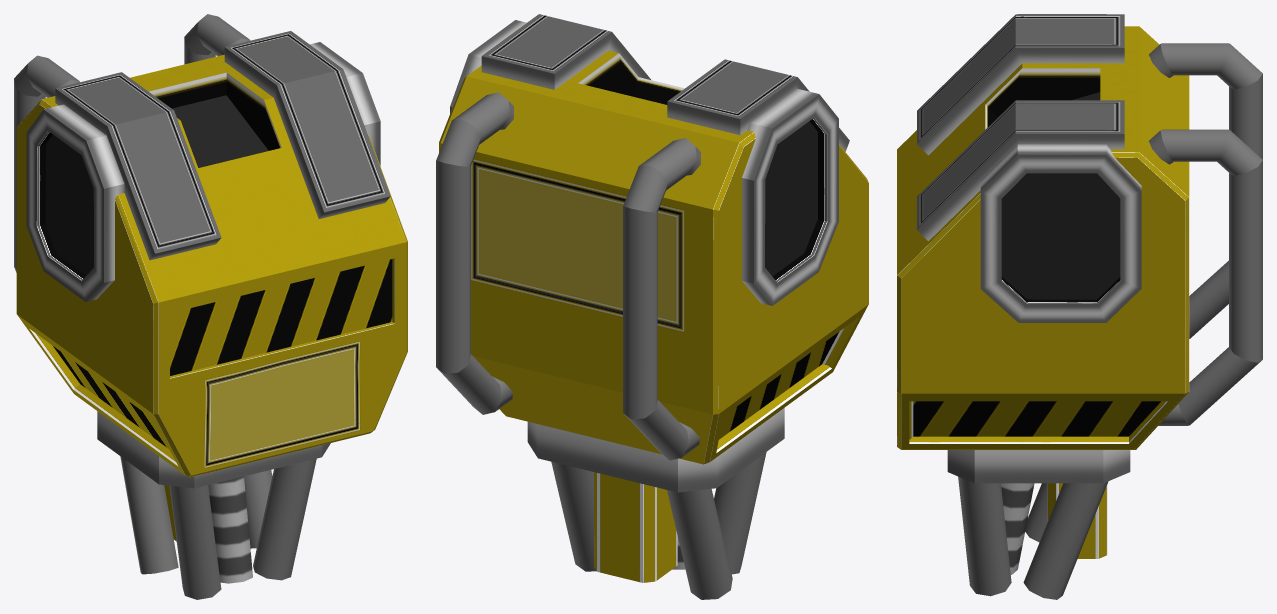
The model's file is body_w.fbx.
3 renders of one model, left to right at view 1: azimuth 30°, elevation 25°; view 2: azimuth 150°, elevation 25°; view 3: azimuth 270°, elevation 25°, orthographic. The views are drawn at different scales.
Parts seen in each view (by area): view 1: BODY_W; view 2: BODY_W; view 3: BODY_W.
Boxes of the visible parts, x1=… form: BODY_W: x1=14, y1=14, x2=407, y2=599; BODY_W: x1=436, y1=14, x2=868, y2=599; BODY_W: x1=897, y1=14, x2=1262, y2=599.
Bounding box in the file's own units: 29.3 × 48.21 × 32.24.
